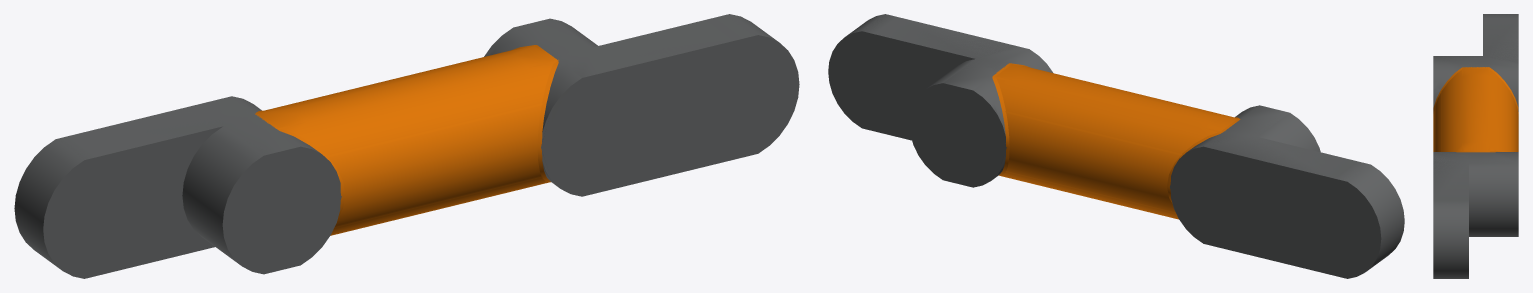
The picture shows the model from 3 angles, left to right: view 1: azimuth 30°, elevation 25°; view 2: azimuth 150°, elevation 25°; view 3: azimuth 270°, elevation 25°; orthographic projection. The views are drawn at different scales.
Parts seen in each view (by area): view 1: h2_LOD0, h2_col; view 2: h2_LOD0, h2_col; view 3: h2_LOD0, h2_col.
Part boxes in pixels (bbox=[...]): h2_LOD0: bbox=[14, 14, 799, 278]; h2_col: bbox=[43, 15, 798, 277]; h2_LOD0: bbox=[828, 14, 1404, 278]; h2_col: bbox=[828, 14, 1381, 277]; h2_LOD0: bbox=[1433, 14, 1518, 278]; h2_col: bbox=[1433, 14, 1518, 205].
Size of what is drawn, in the model's own units: 72 by 11.93 by 12.
